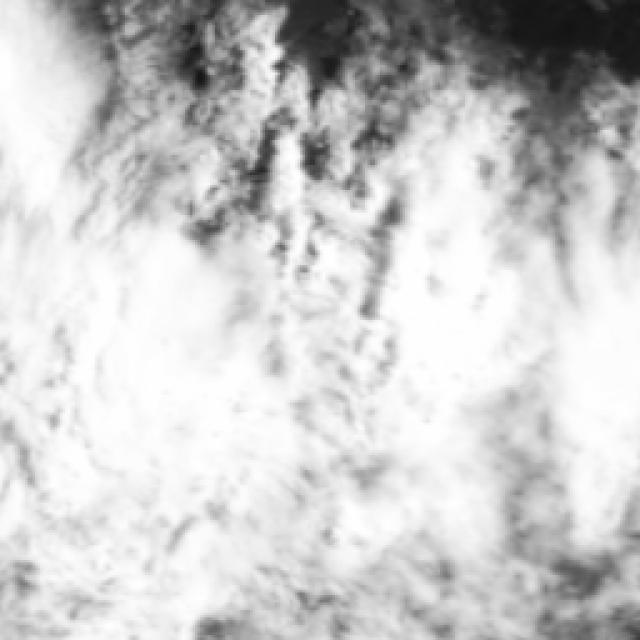CB: (80, 246, 227, 465), (540, 275, 640, 490)
